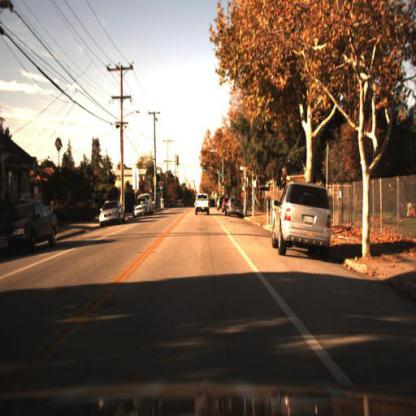car: (269, 179, 334, 261), (1, 200, 60, 260), (97, 198, 125, 230), (225, 197, 248, 221), (194, 191, 213, 219), (133, 200, 151, 223)
